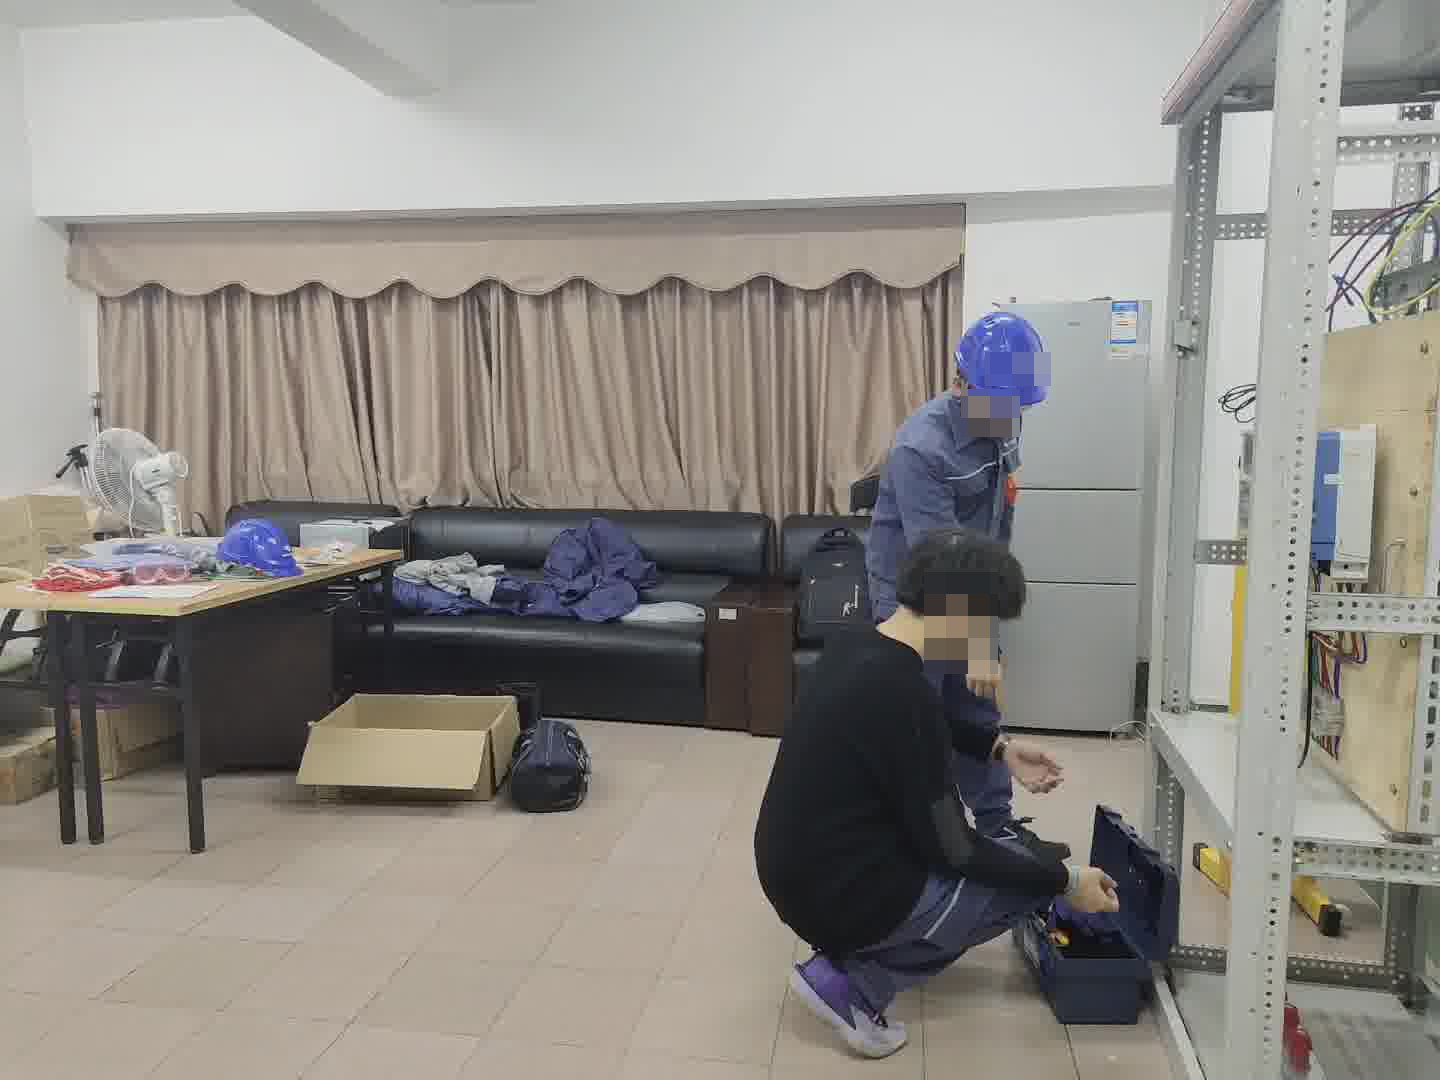downsuit: (875, 890, 1031, 986)
halt: (954, 309, 1051, 422)
hand: (1053, 852, 1123, 917), (1003, 735, 1068, 803), (962, 642, 1009, 695)
noear: (939, 589, 981, 649)
person: (756, 538, 1153, 1065), (854, 305, 1054, 590)
unhalt: (896, 534, 1025, 656)
upcloth: (753, 619, 941, 922)
upsuit: (869, 393, 1029, 565)
